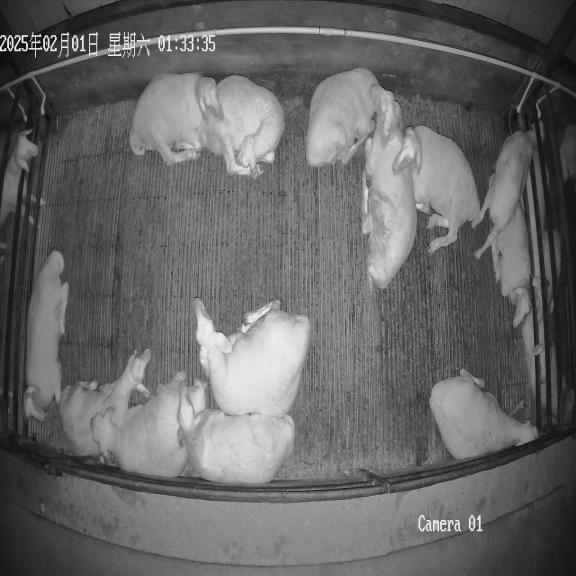lying: (193, 298, 311, 417), (91, 372, 208, 477), (177, 382, 295, 484), (394, 126, 481, 254), (59, 349, 151, 458), (430, 369, 538, 459), (306, 68, 400, 167), (362, 124, 416, 289), (129, 73, 222, 165), (206, 75, 284, 178), (23, 250, 69, 421), (491, 205, 531, 328)
stand: (473, 131, 537, 258)
